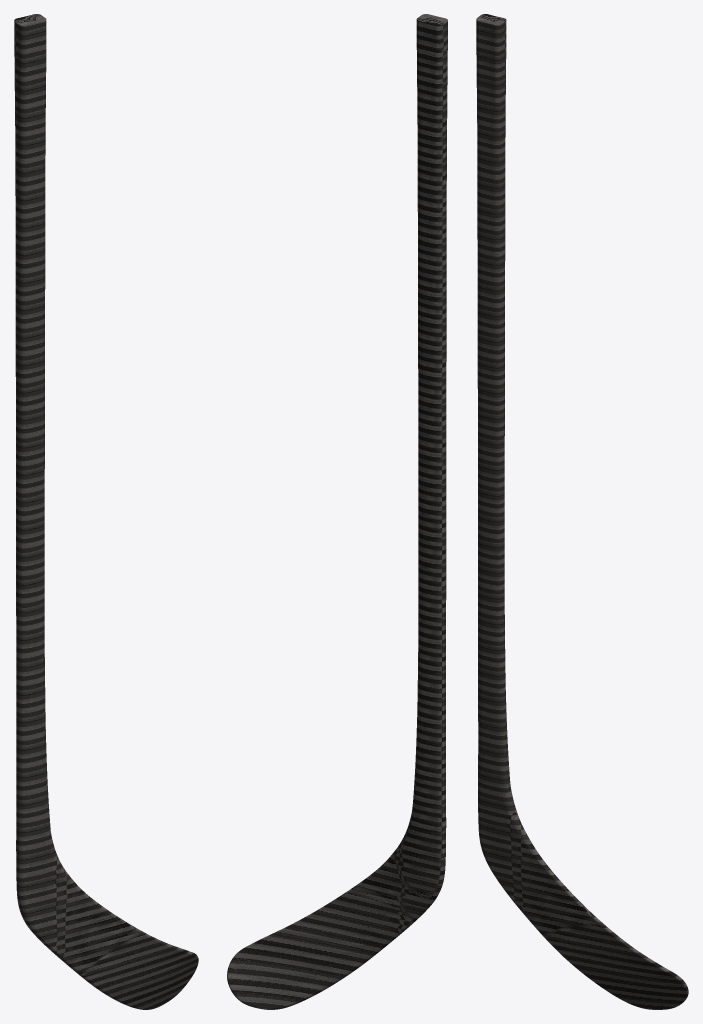
File: P85-SBO.glb
3 views of the same model, side by side, from view 1: azimuth 30°, elevation 25°; view 2: azimuth 150°, elevation 25°; view 3: azimuth 330°, elevation 25° (orthographic). The views are drawn at different scales.
Parts seen in each view (by area): view 1: geometry_0; view 2: geometry_0; view 3: geometry_0.
Part boxes in pixels (x1,y1,x2,y2): geometry_0: (14,14,198,1009); geometry_0: (227,14,447,1009); geometry_0: (476,14,688,1009).
Size of the model in its own units: 230 by 1133 by 61.45.
1 material, 1 textured.
